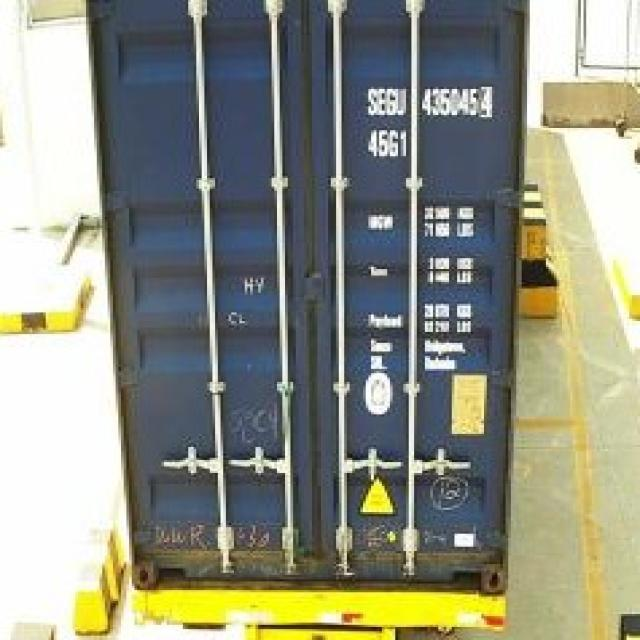ISO: (366, 124, 414, 166)
container_number: (360, 87, 498, 123)
